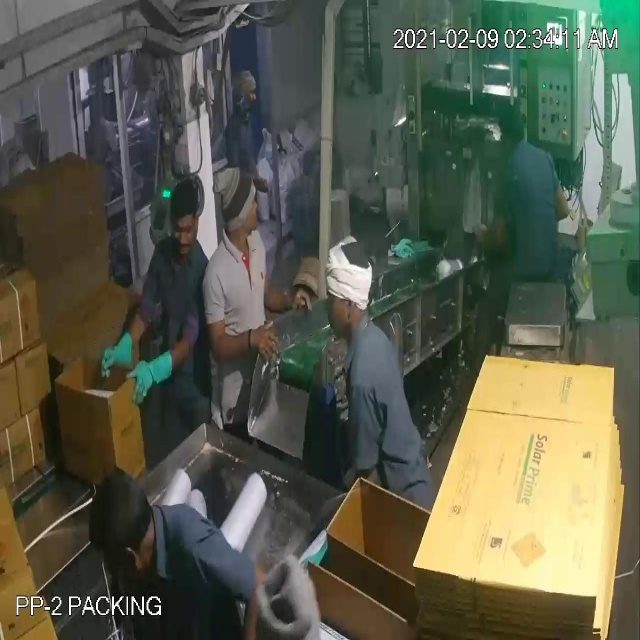Guantes: (118, 347, 180, 409), (90, 319, 140, 387)
Sin_guantes: (202, 308, 283, 372), (256, 268, 321, 326)
